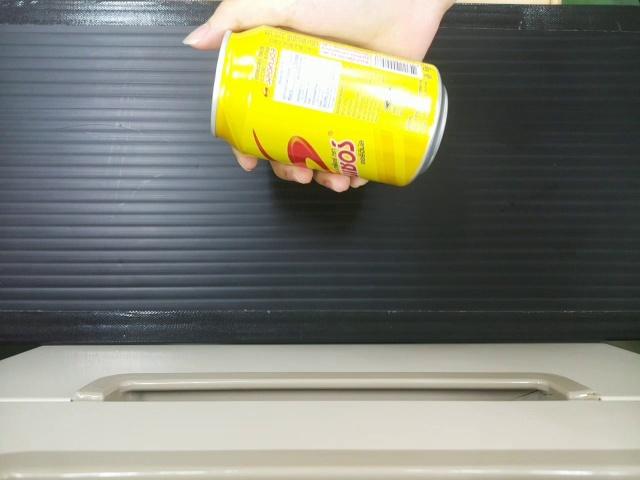can: (208, 26, 445, 181)
